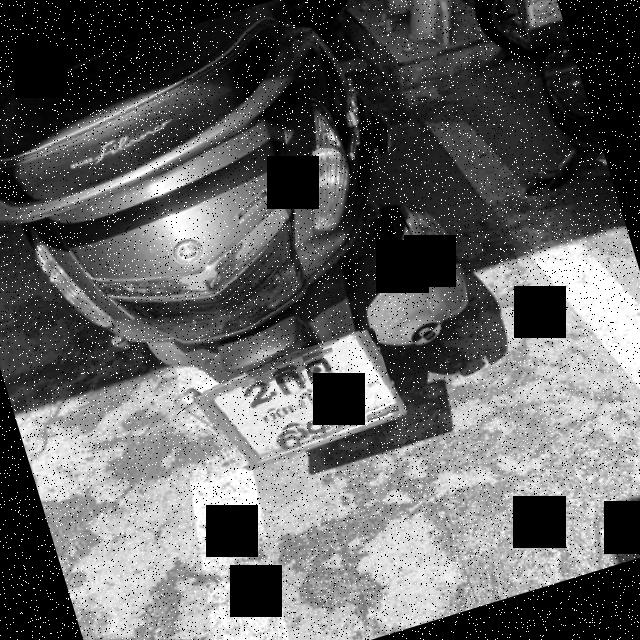letters: (302, 346, 342, 389), (240, 376, 276, 416), (332, 399, 370, 433), (274, 367, 307, 399), (269, 425, 302, 454), (303, 410, 328, 442)
license-plate: (205, 330, 397, 463)
province: (254, 380, 354, 425)
